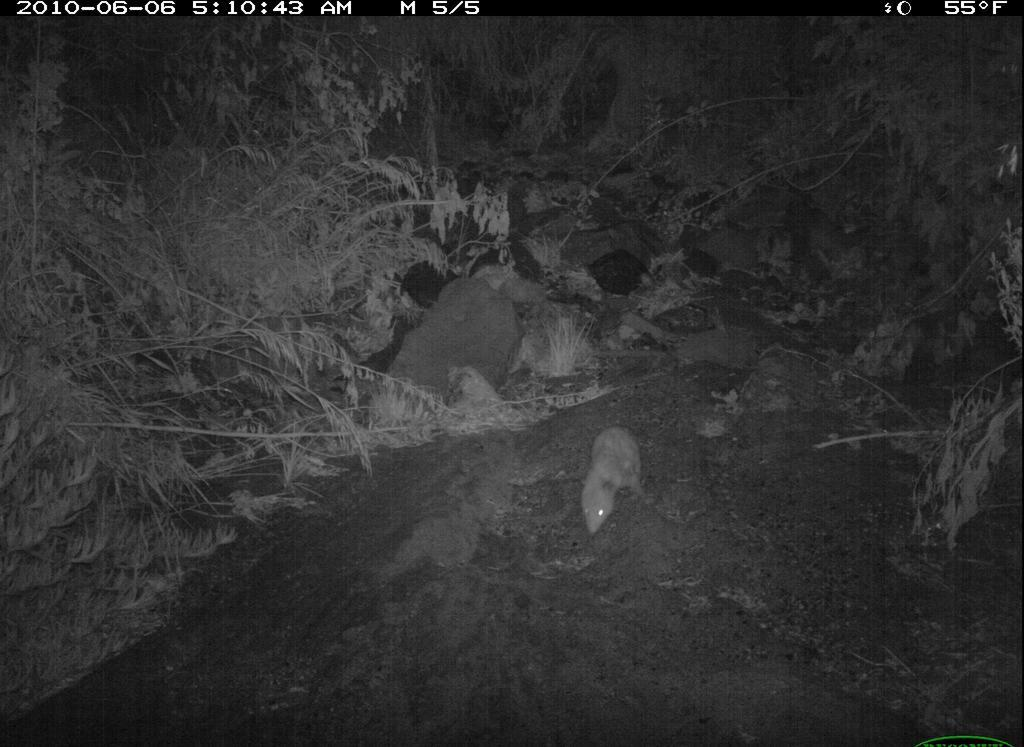opossum: (568, 408, 660, 543)
